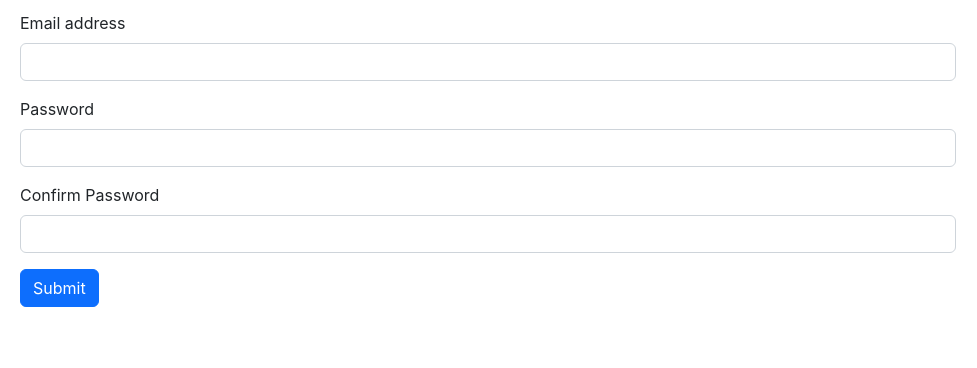
Test: App › Error Handling › should show password error if password is less than 5 characters
Expected: the text "the password you entered should contain 5 or more characters" is not shown
Type "selena@gmail.com" into the field labelled "Email address". click: (488, 62)
box: [20,43,956,81]
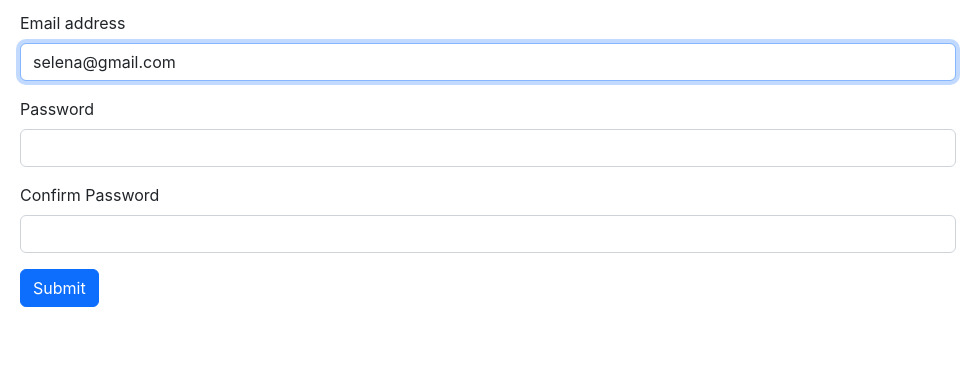
Type "123" into the password field labelled "Password". click: (488, 148)
box: [20,129,956,167]
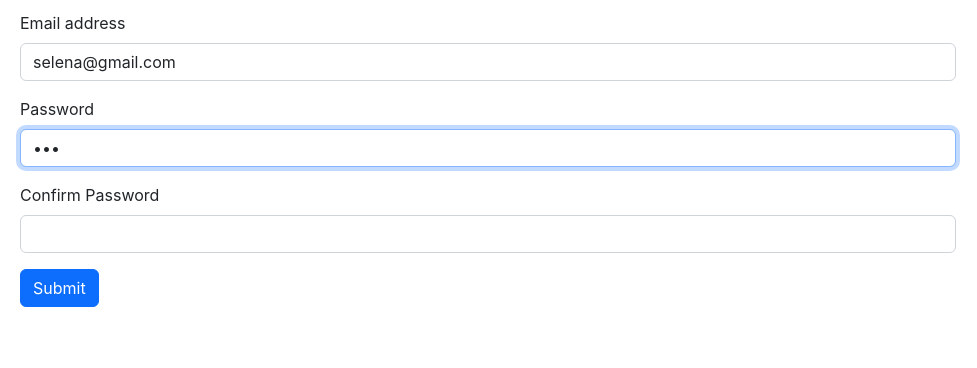
Click the button "Submit". click: click(59, 288)
box: [20,269,99,307]
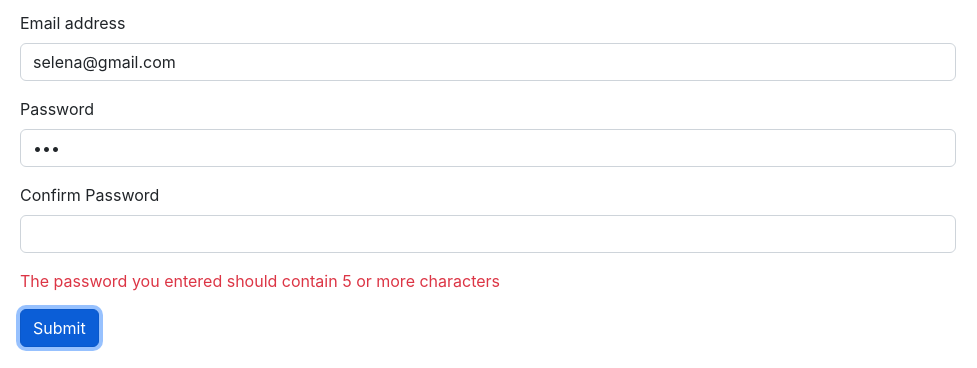
Expected: the text "The password you entered should contain 5 or more characters" is shown, [20,271,500,291]
